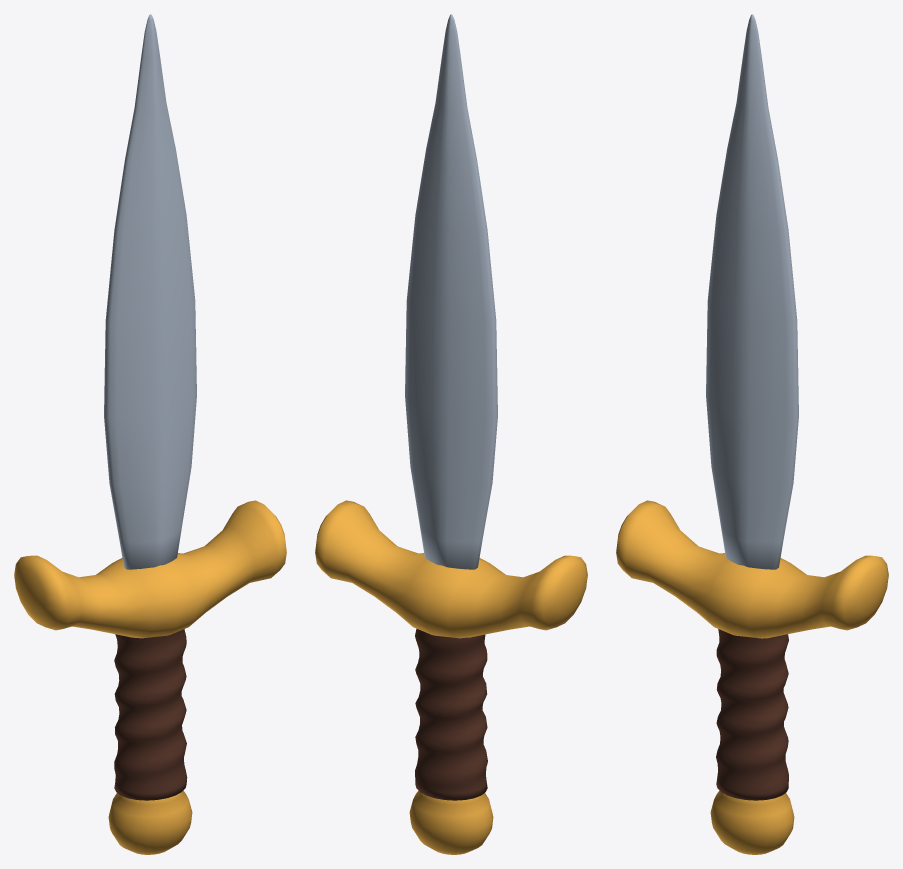
The model's file is arma-daga.glb.
3 views of the same model, side by side, from view 1: azimuth 30°, elevation 25°; view 2: azimuth 150°, elevation 25°; view 3: azimuth 330°, elevation 25° (orthographic).
Parts seen in each view (by area): view 1: arma-daga; view 2: arma-daga; view 3: arma-daga.
Boxes of the visible parts, bbox=[...] form: arma-daga: bbox=[14, 14, 286, 854]; arma-daga: bbox=[315, 14, 587, 854]; arma-daga: bbox=[616, 14, 888, 854].
Size of the model in its own units: 0.136 by 0.44 by 0.0519.
